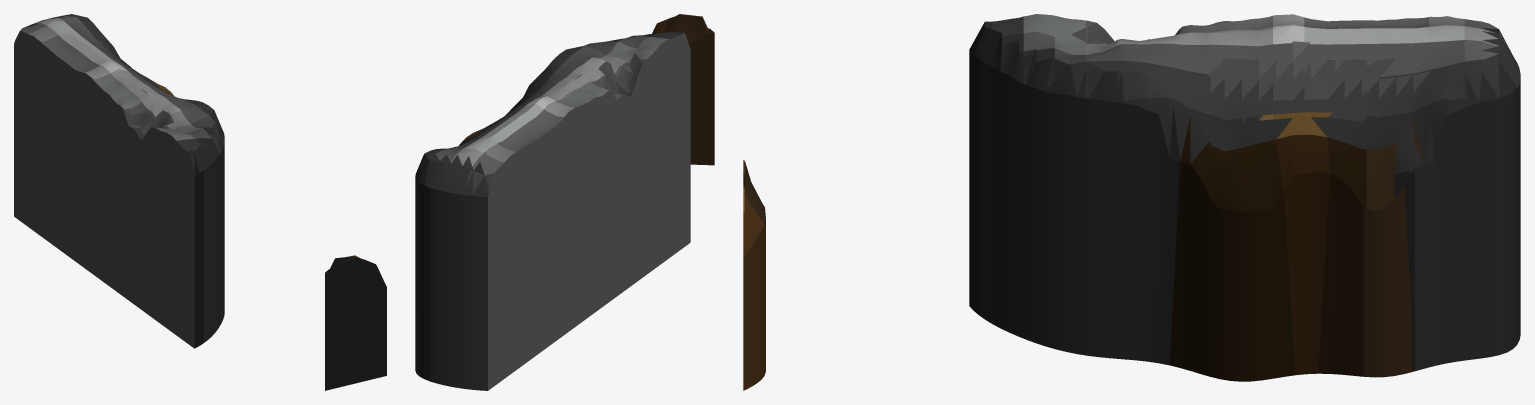
File: tusk_boss_170.glb
The picture shows the model from 3 angles, left to right: view 1: azimuth 30°, elevation 25°; view 2: azimuth 150°, elevation 25°; view 3: azimuth 270°, elevation 25°; orthographic projection. The views are drawn at different scales.
Parts seen in each view (by area): view 1: tusk_boss_170_plates; view 2: tusk_boss_170_plates; view 3: tusk_boss_170_plates.
Part boxes in pixels (x1,y1,x2,y2): tusk_boss_170_plates: (14, 14, 386, 390); tusk_boss_170_plates: (415, 14, 714, 390); tusk_boss_170_plates: (743, 14, 1520, 390).
Bounding box in the file's own units: 6.43 × 10.6 × 24.94.
